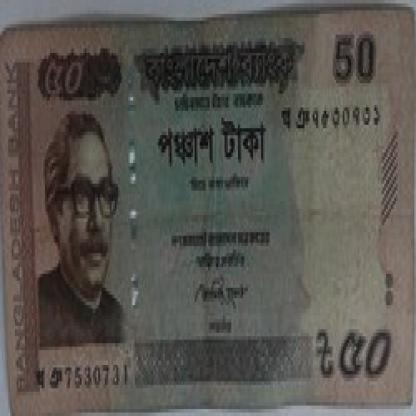Fifty taka: (311, 312, 396, 409), (36, 45, 102, 111)
